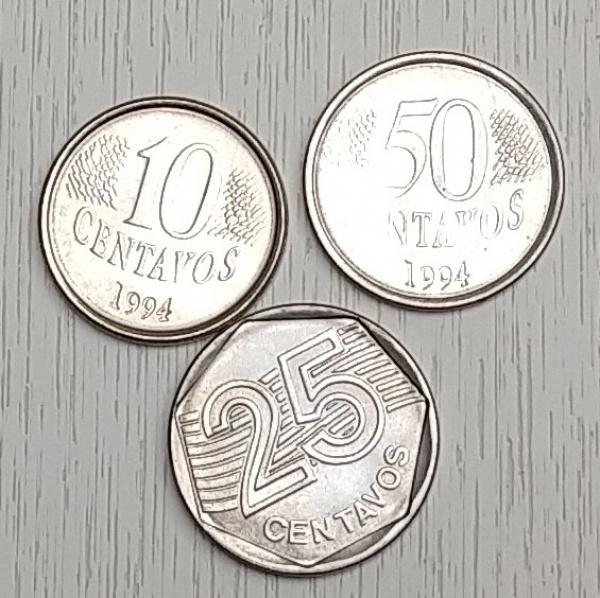10 cent: (21, 90, 302, 360)
25 cent: (138, 299, 451, 598)
50 cent: (304, 48, 577, 328)
